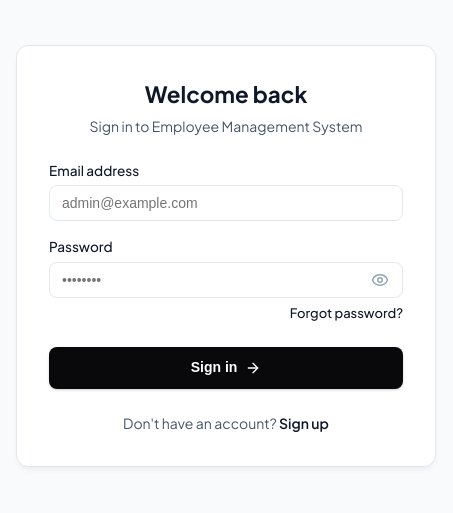
Test: Login Component › displays API error message on login failure
This screenshot has width=453, height=513.
Type "wrong@example.com" into the field labelled "Email address".
click(226, 203); type("wrong@example.com")  # box x1=49 y1=185 x2=403 y2=221
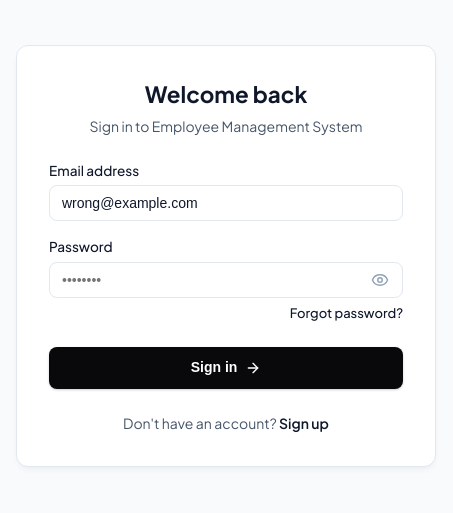
Type "badpass" into the password field labelled "Password".
click(226, 280); type("badpass")  # box x1=49 y1=262 x2=403 y2=298
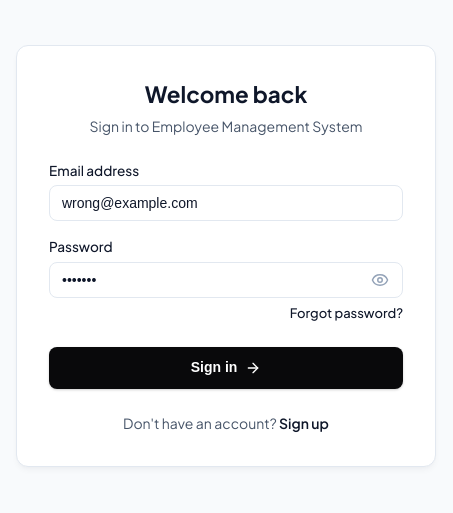
Click the button "Sign in".
click(226, 368)  # box x1=49 y1=347 x2=403 y2=389
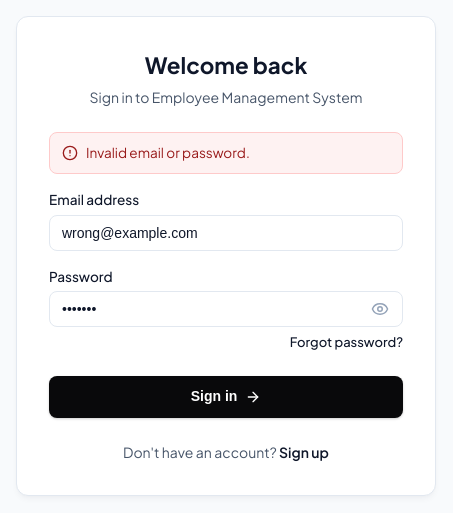
Check: the text "Invalid email or password." is shown, box x1=86 y1=143 x2=250 y2=163
